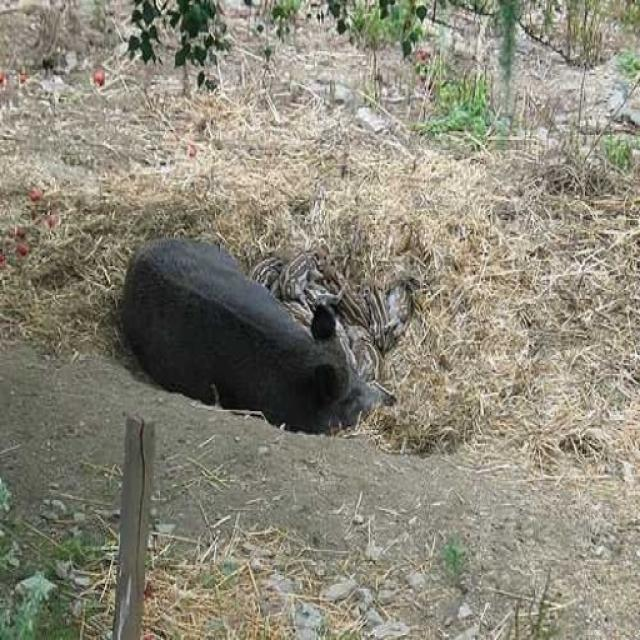pig: (88, 172, 425, 469)
